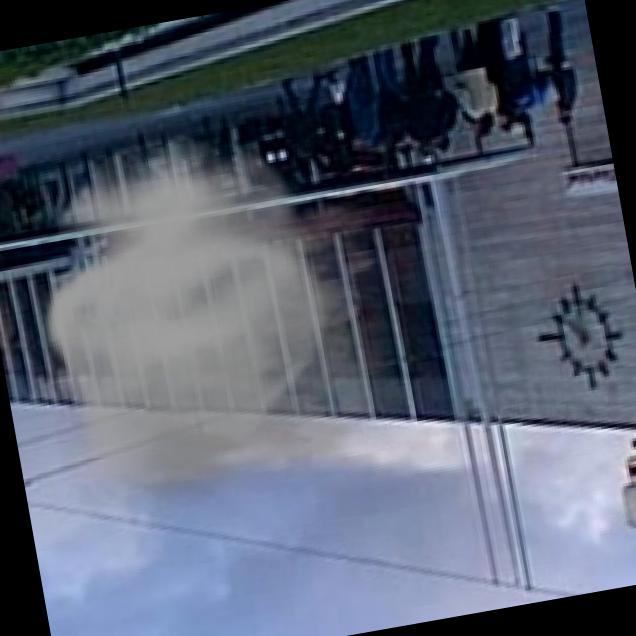smoke: (10, 97, 460, 535)
